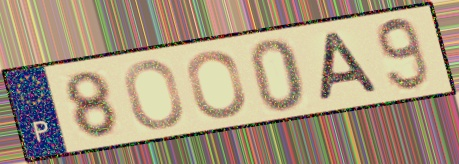0: (247, 36, 309, 115)
8: (60, 69, 122, 140)
9: (377, 14, 434, 97)
A: (317, 28, 383, 105)
O: (121, 58, 187, 132), (184, 47, 249, 121)
